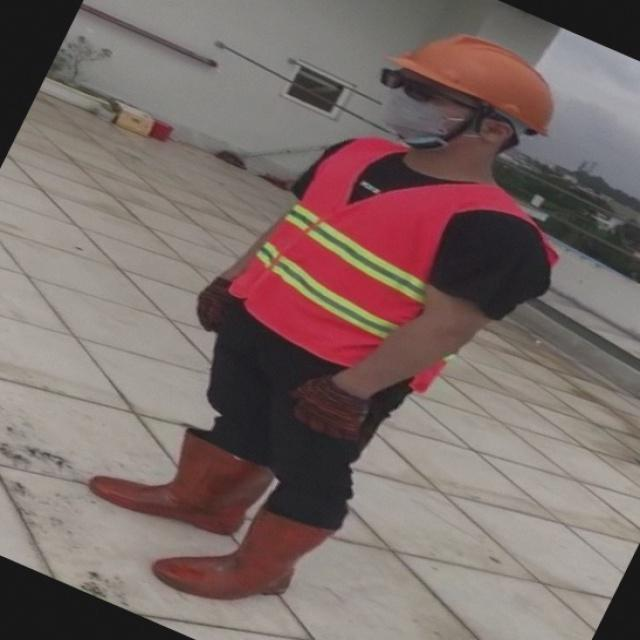helmet: (383, 23, 560, 132)
safety_vest: (218, 129, 560, 412)
